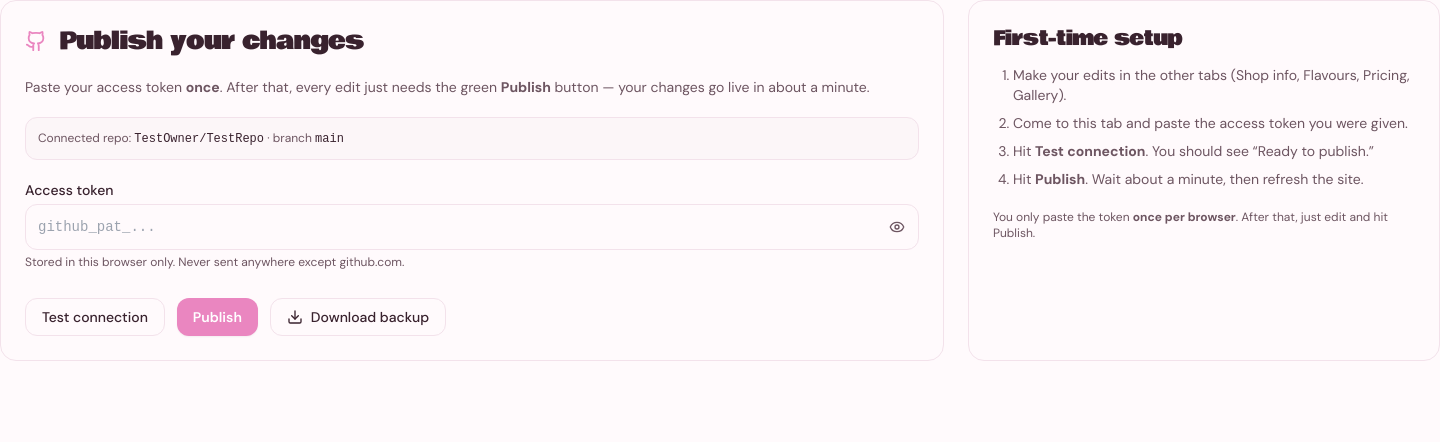
Scenario: PublishPanel — Publish button › shows the success state with a commit link
Type "tok" into the password field with placeholder "github_pat_..." at (472, 227), box x1=25 y1=204 x2=919 y2=250
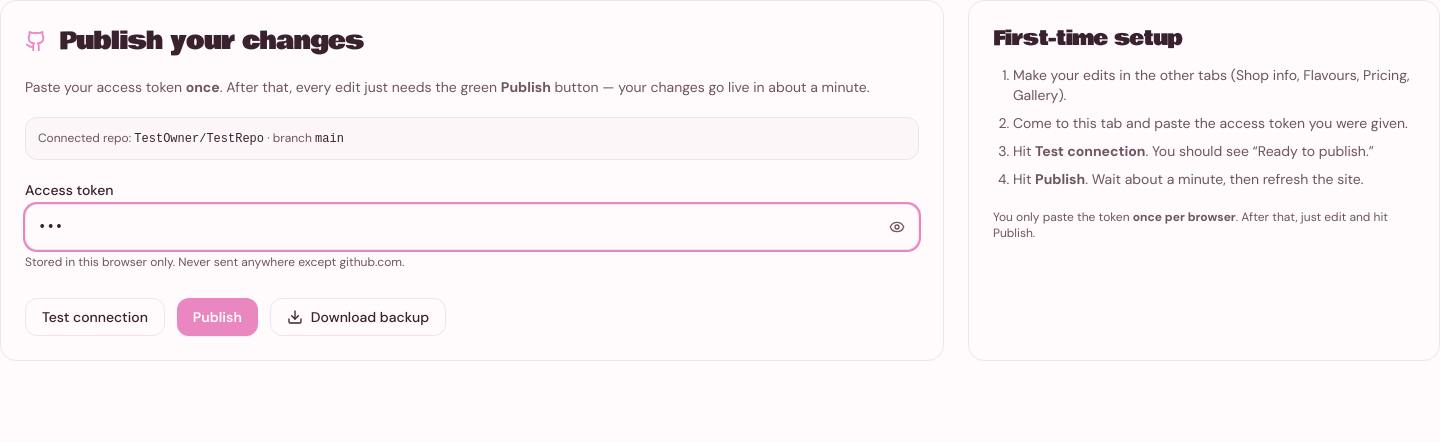
Click the button "Publish" at (217, 317), box x1=177 y1=298 x2=258 y2=336
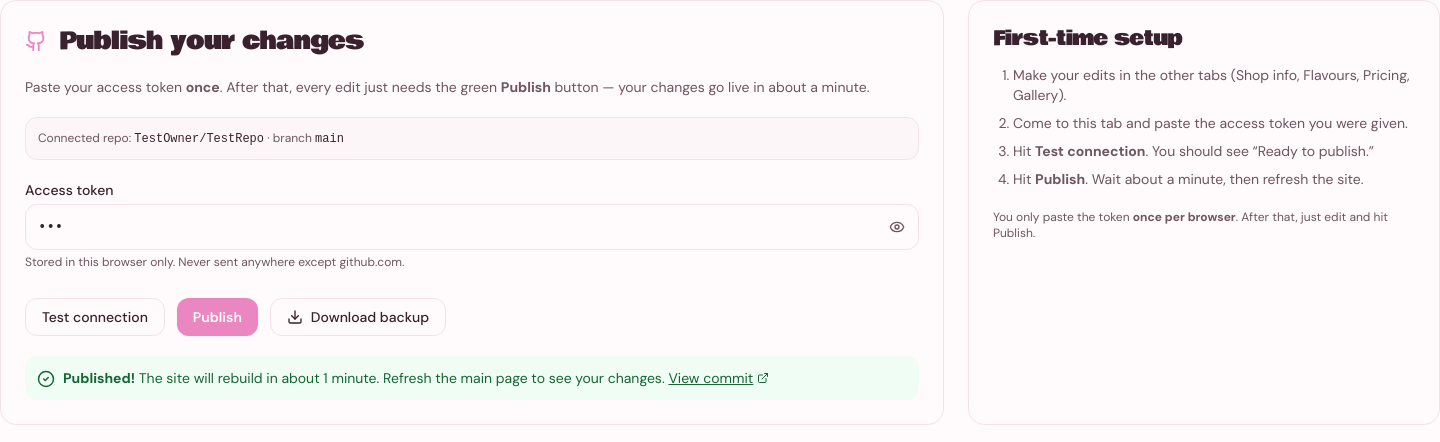
Result: the text "Published!" is shown at x1=63 y1=369 x2=135 y2=387
